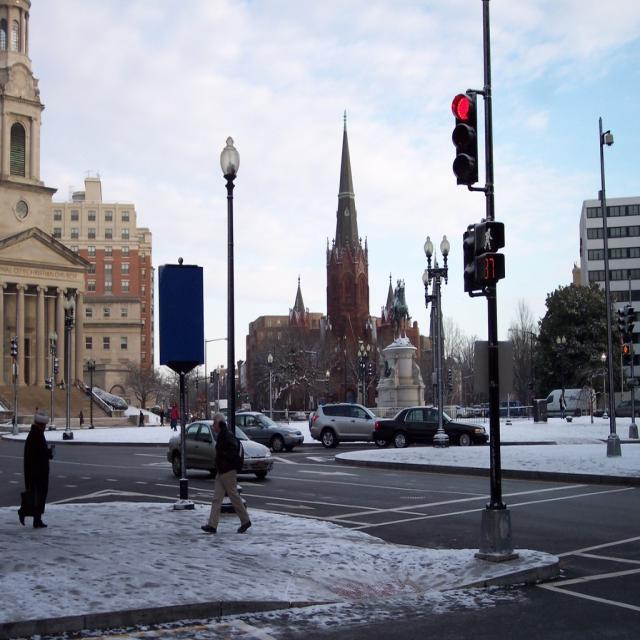traffic light: (452, 91, 478, 183), (475, 221, 505, 285), (626, 306, 635, 332), (622, 343, 632, 365), (617, 308, 625, 335)
